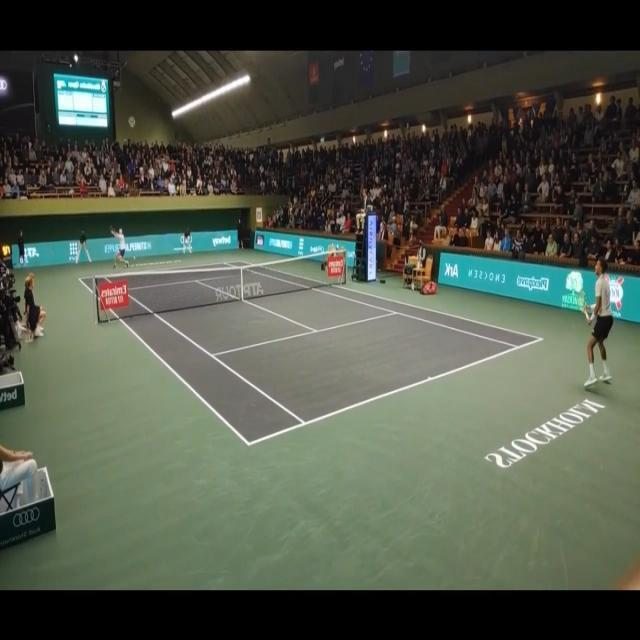court: (78, 260, 544, 448)
net: (94, 248, 348, 326)
player: (576, 256, 614, 388)
